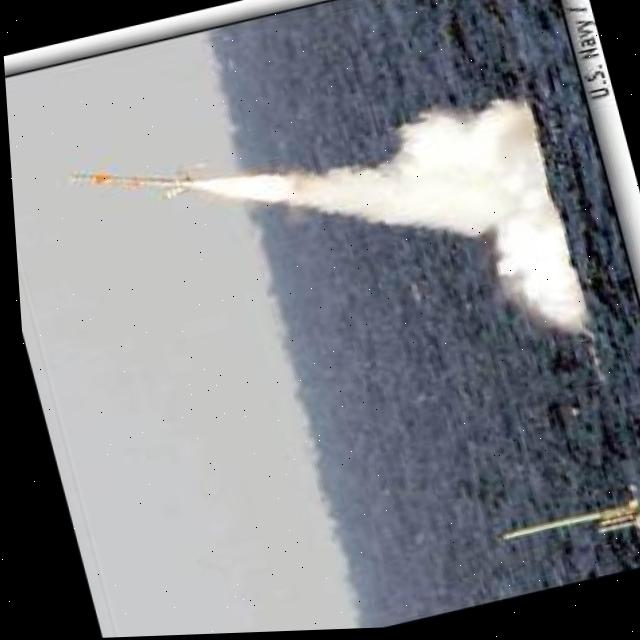missile: (59, 149, 197, 221)
